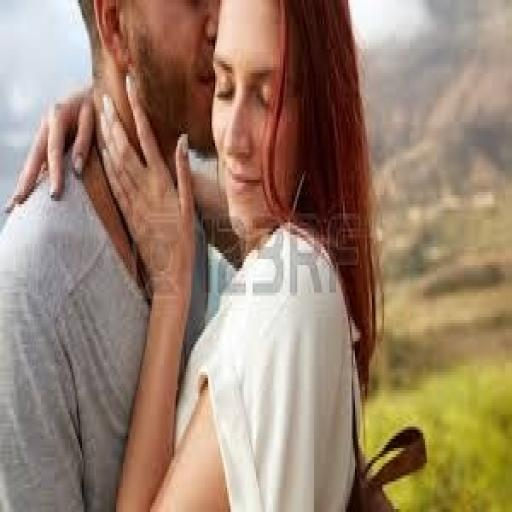hugging: (0, 0, 403, 509)
